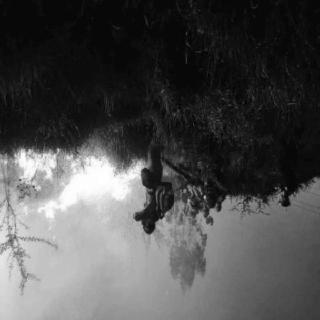Fire: (14, 150, 142, 222)
